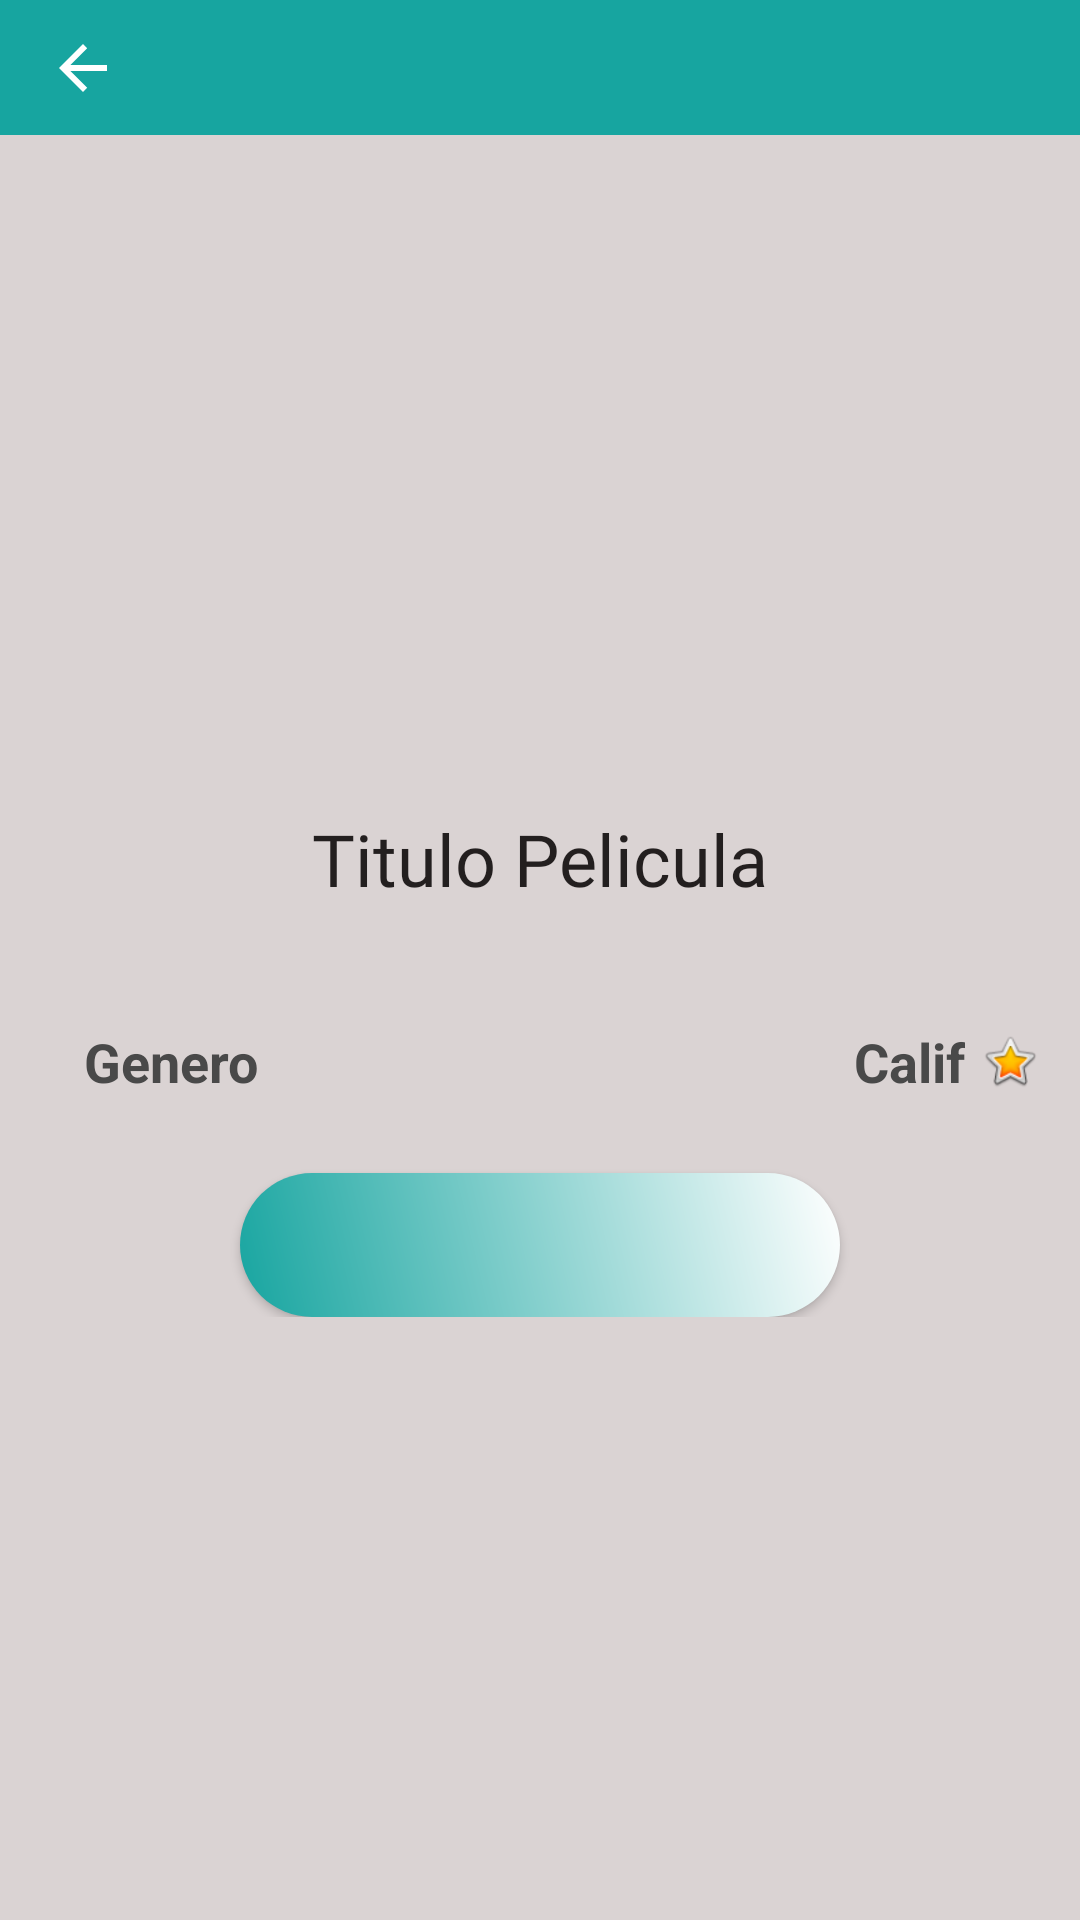

Where to tap for icons on this 1080 x 1920 app screen, as (x=x, y=y):
star on: (x=1011, y=1061)
